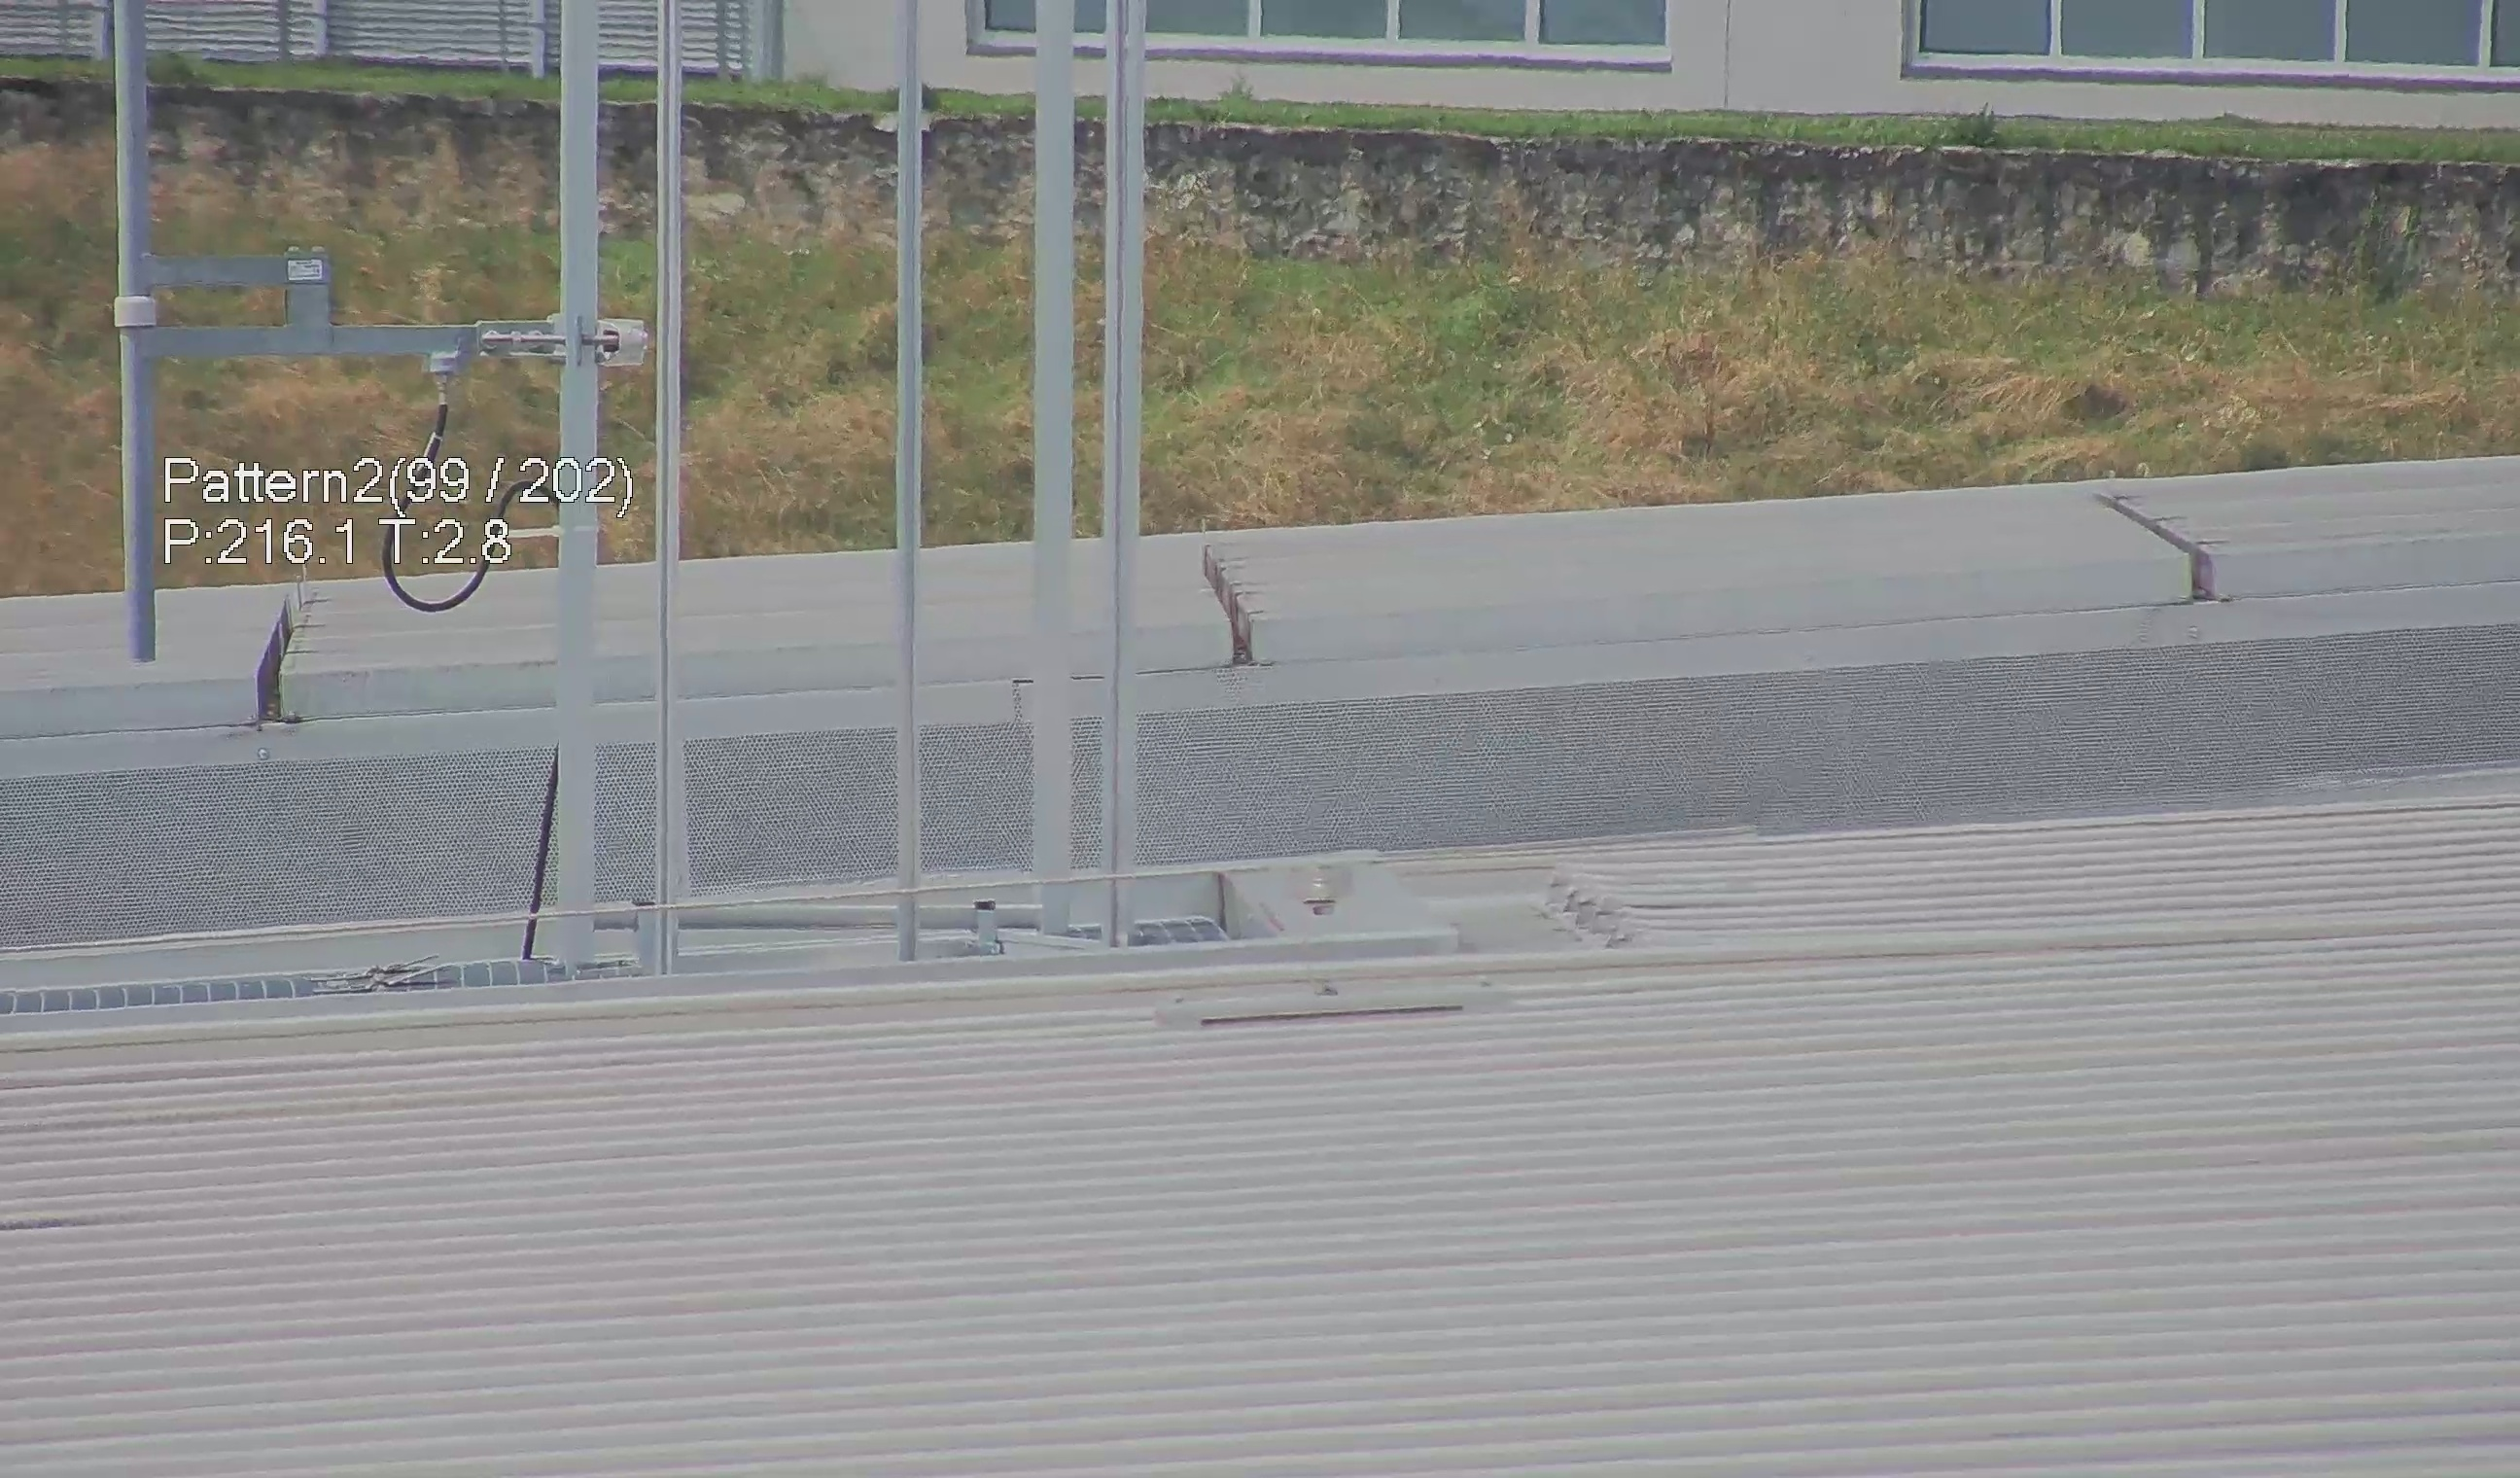Other: (1180, 523, 1284, 669)
